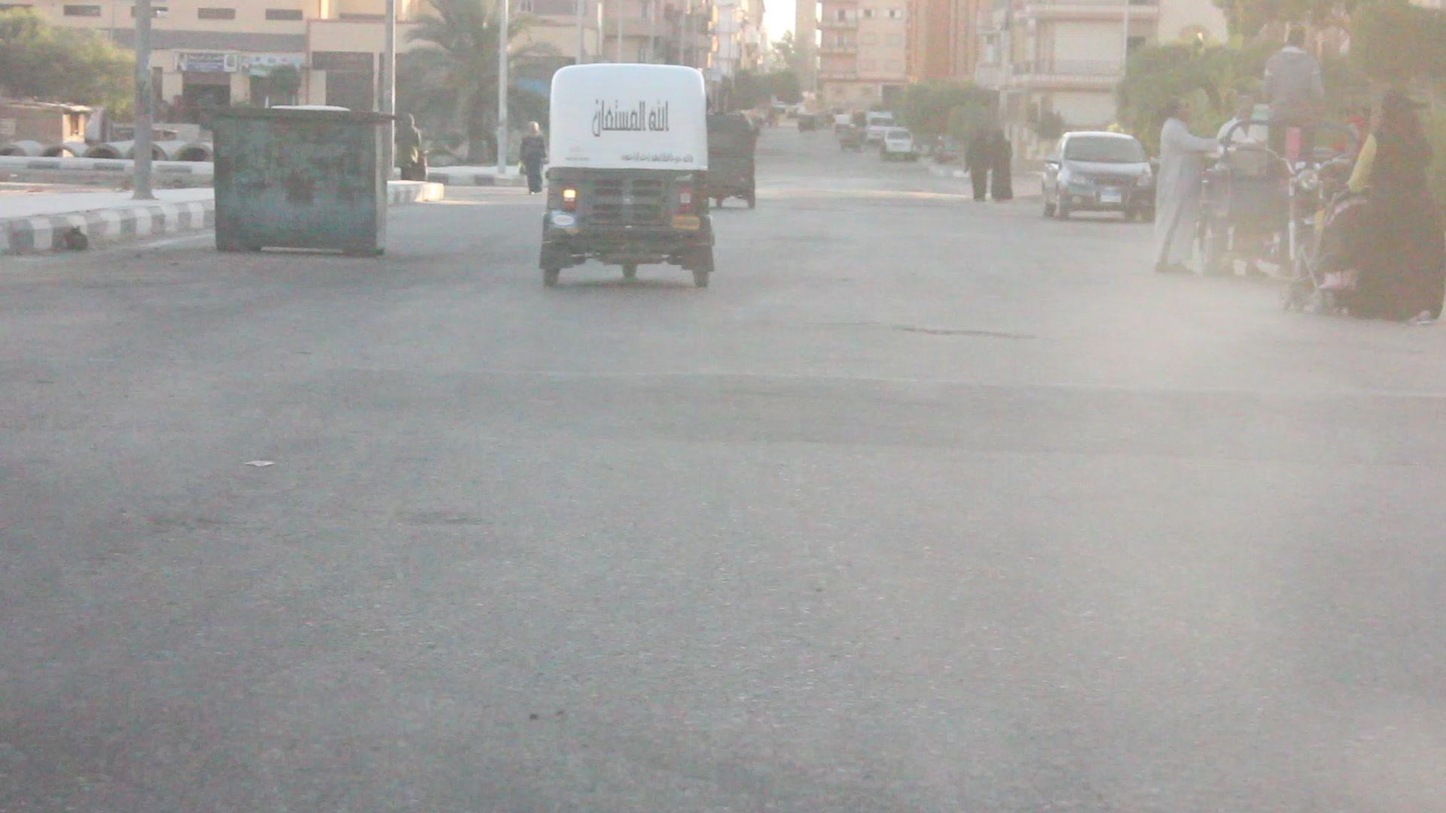Bump: (0, 343, 1446, 478)
